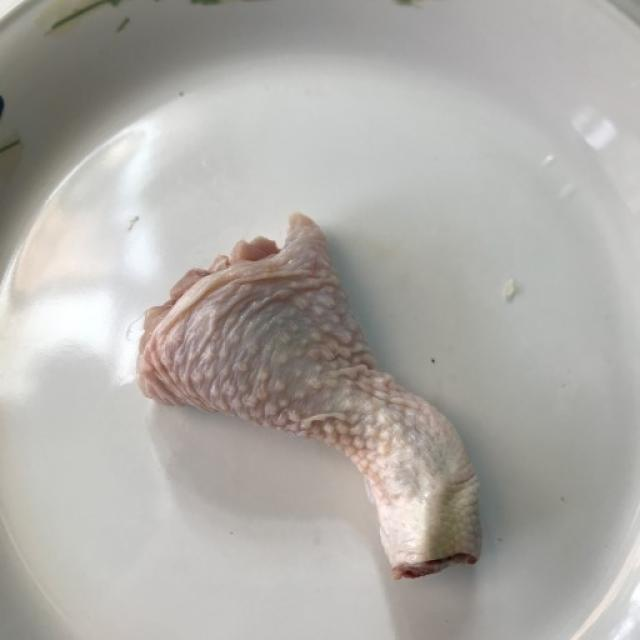chicken: (133, 210, 482, 580)
